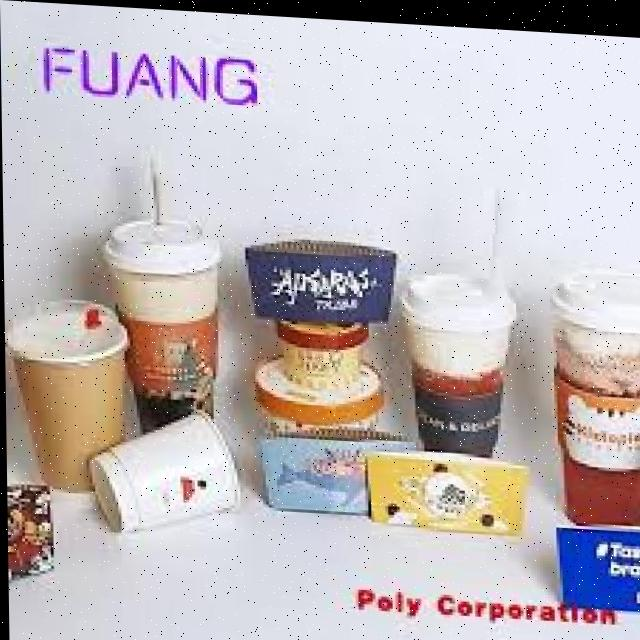cup: (5, 299, 126, 489), (551, 273, 640, 517), (109, 264, 215, 431), (89, 412, 238, 530), (402, 297, 514, 451)
